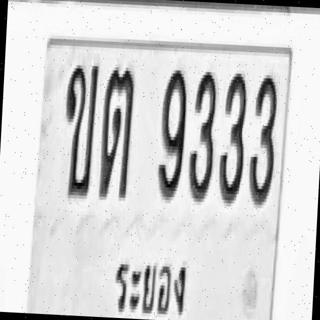A02: (61, 60, 99, 198)
A21: (99, 64, 136, 198)
N03: (247, 70, 279, 207), (217, 70, 248, 204), (187, 68, 218, 202)
N09: (157, 66, 188, 200)
P53: (108, 239, 197, 320)
